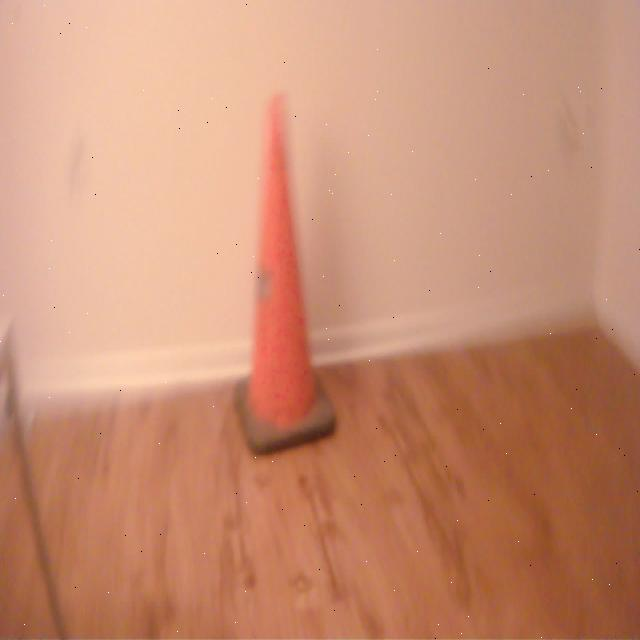traffic cone: (230, 89, 342, 472)
